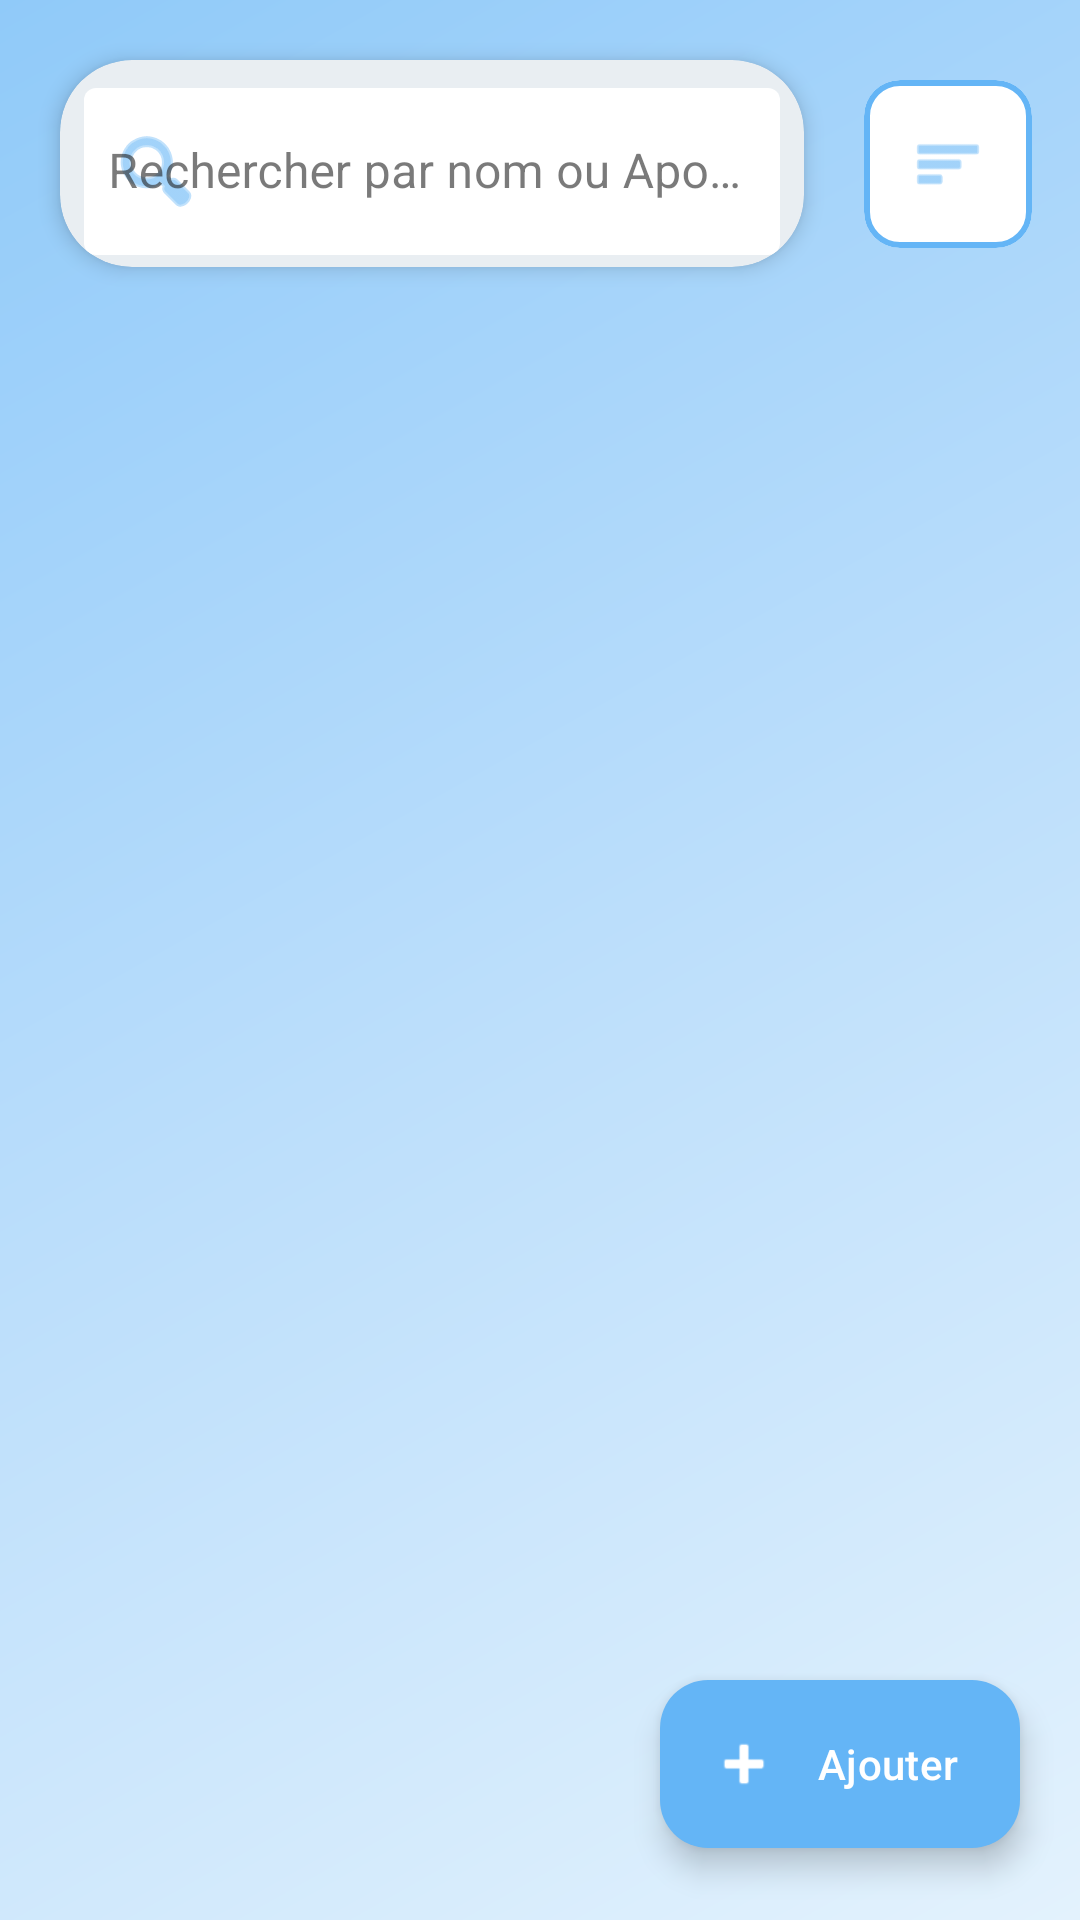

Icon bounding boxes for this 1080px×1920px phone screenshot, format (x1, y1, x2, y2):
sort by size: (917, 144, 979, 184)
